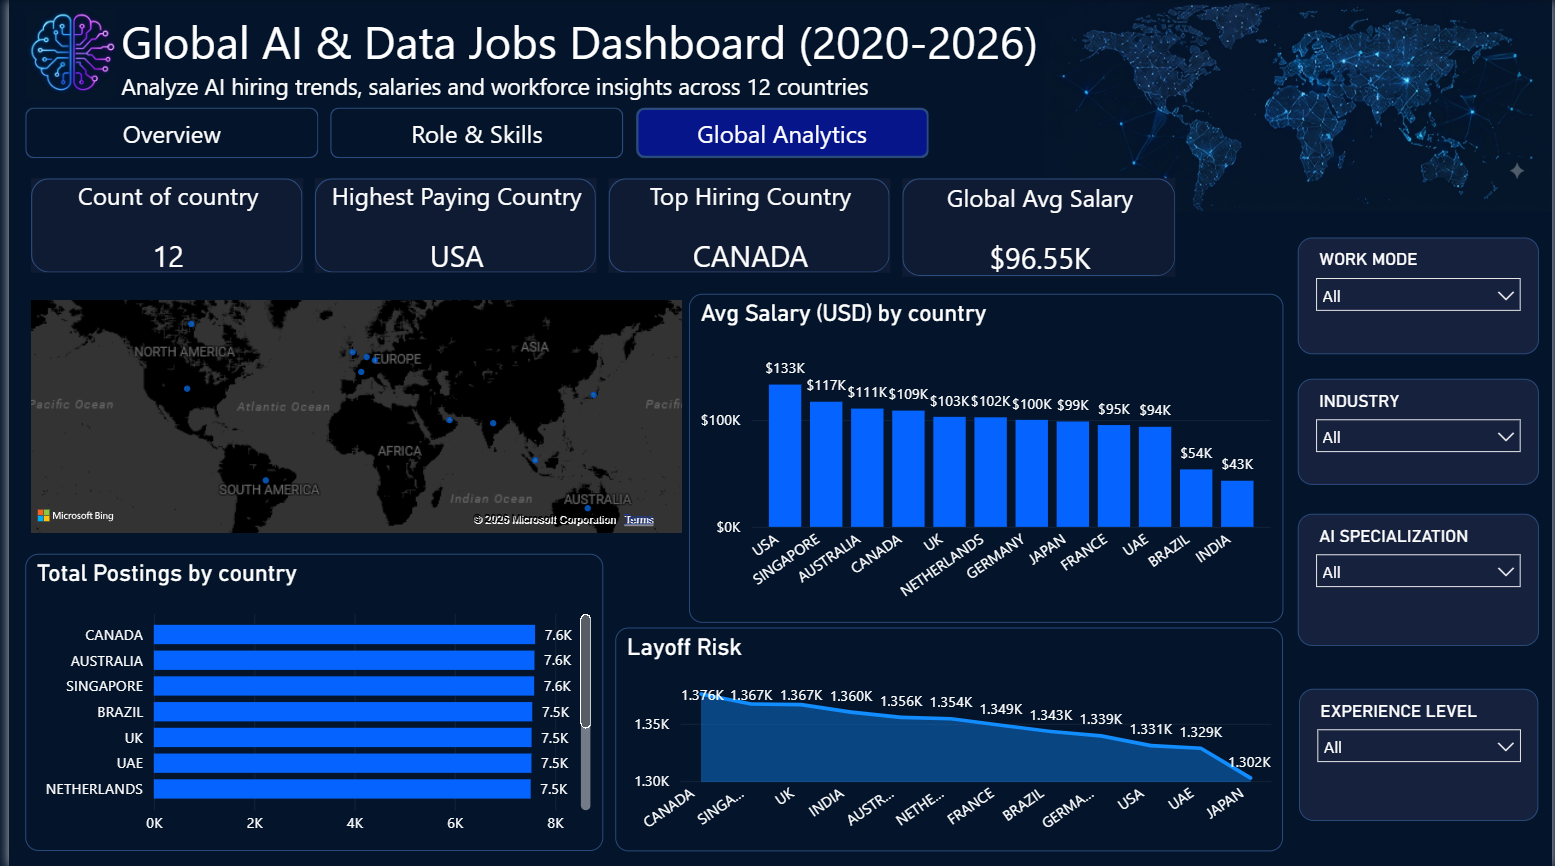

Layout of this report page (visuals, bound fields, positions):
{"tool":"powerbi","page":{"name":"Global Analytics","canvas":[1280,720],"ordinal":2},"visuals":[{"type":"image","box":[0,8.1,105.8,73.3],"z":0},{"type":"textbox","box":[88.4,4.7,884.9,86],"z":1000},{"type":"image","box":[859.3,0,420.9,179.1],"z":2000},{"type":"cardVisual","fields":{"Data":["Count(global_ai_jobs.country)"]},"box":[13.4,142.9,235.6,88.2],"z":3000},{"type":"cardVisual","fields":{"Data":["AI_Specialization_Summary.Highest Paying Country"]},"box":[249,142.9,243.4,88.2],"z":4000},{"type":"cardVisual","fields":{"Data":["global_ai_jobs.Top Hiring Country"]},"box":[492.4,142.9,243.4,88.2],"z":5000},{"type":"cardVisual","fields":{"Data":["global_ai_jobs.Avg Salary (USD)"]},"box":[735.9,142.9,236.7,91.6],"z":6000},{"type":"slicer","fields":{"Values":["global_ai_jobs.industry"]},"box":[1068.6,313.8,199.9,88.2],"z":7000},{"type":"slicer","fields":{"Values":["AI_Specialization_Summary.ai_specialization"]},"box":[1068.6,425.4,199.9,109.4],"z":9000},{"type":"slicer","fields":{"Values":["global_ai_jobs.experience_level"]},"box":[1069.7,570.6,198.8,109.4],"z":10000},{"type":"slicer","fields":{"Values":["global_ai_jobs.work_mode"]},"box":[1068.6,196.5,199.9,97.1],"z":11000},{"type":"map","fields":{"Category":["global_ai_jobs.country"]},"box":[13.4,243.4,550.5,203.2],"z":12000},{"type":"clusteredBarChart","fields":{"Category":["global_ai_jobs.country"],"Y":["global_ai_jobs.Total Postings"]},"box":[13.4,458.9,479,246.8],"z":13000},{"type":"columnChart","fields":{"Category":["global_ai_jobs.country"],"Y":["global_ai_jobs.Avg Salary (USD)"]},"box":[563.9,243.4,492.4,272.5],"z":14000},{"type":"areaChart","title":"Layoff Risk","fields":{"Category":["global_ai_jobs.country"],"Y":["Sum(global_ai_jobs.layoff_risk)"]},"box":[502.5,520.3,553.8,185.4],"z":15000},{"type":"pageNavigator","box":[13.4,89.3,1257.3,42.4],"z":16001}]}

Visuals, with their boxes in screenshot pixels (x1, y1, x2, y2), scaled from the page's 1280x720 canvas onto the 1555x866 screenshot:
image: <region>0, 10, 129, 98</region>
textbox: <region>107, 6, 1182, 109</region>
image: <region>1044, 0, 1554, 215</region>
cardVisual - Count(global_ai_jobs.country): <region>16, 172, 302, 278</region>
cardVisual - AI_Specialization_Summary.Highest Paying Country: <region>302, 172, 598, 278</region>
cardVisual - global_ai_jobs.Top Hiring Country: <region>598, 172, 894, 278</region>
cardVisual - global_ai_jobs.Avg Salary (USD): <region>894, 172, 1182, 282</region>
slicer - global_ai_jobs.industry: <region>1298, 377, 1541, 484</region>
slicer - AI_Specialization_Summary.ai_specialization: <region>1298, 512, 1541, 643</region>
slicer - global_ai_jobs.experience_level: <region>1300, 686, 1541, 818</region>
slicer - global_ai_jobs.work_mode: <region>1298, 236, 1541, 353</region>
map - global_ai_jobs.country: <region>16, 293, 685, 537</region>
clusteredBarChart - global_ai_jobs.country x global_ai_jobs.Total Postings: <region>16, 552, 598, 849</region>
columnChart - global_ai_jobs.country x global_ai_jobs.Avg Salary (USD): <region>685, 293, 1283, 621</region>
"Layoff Risk" areaChart: <region>610, 626, 1283, 849</region>
pageNavigator: <region>16, 107, 1544, 158</region>
